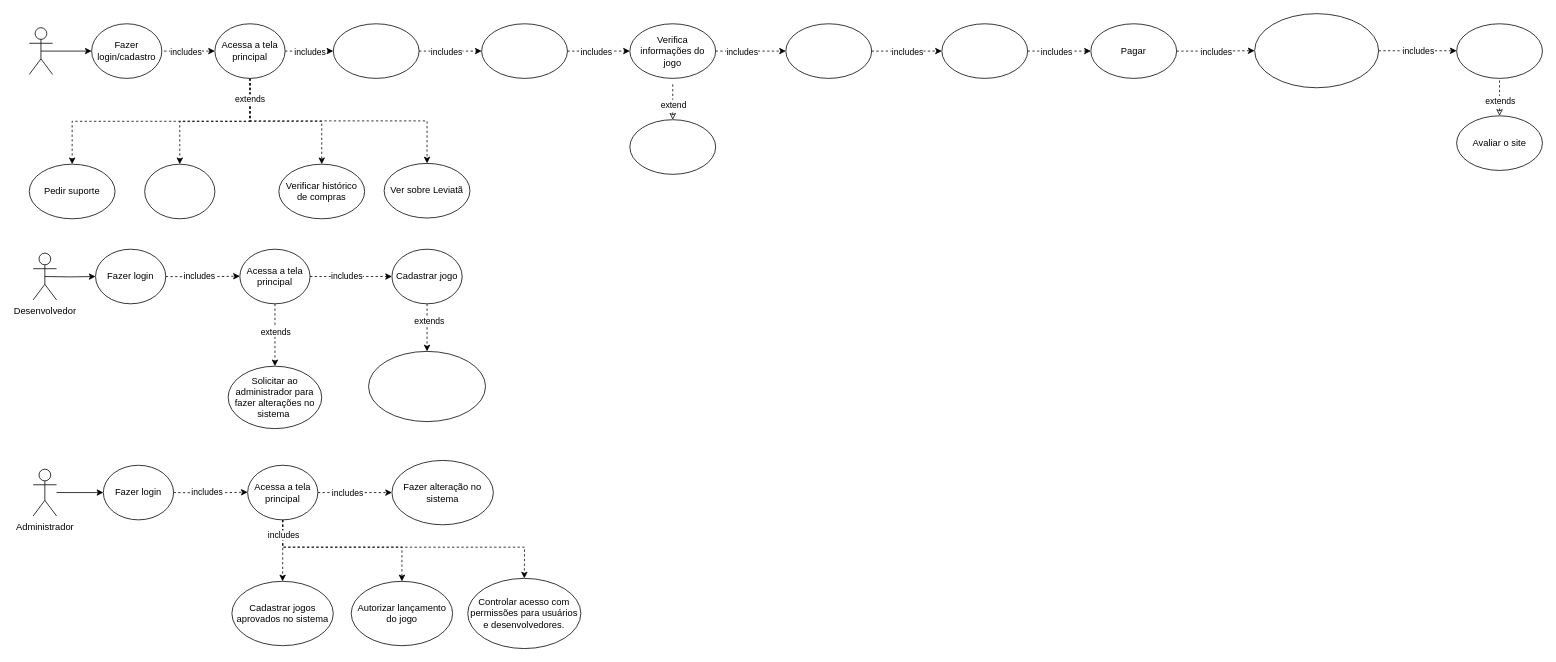
Some shapes in this 1556 by 662 pixel diagram are drawn without their labels. The centre of each missing label's shape, as x and y in pixels:
"Adicionar ao carrinho" goes at (828,50).
"Cliente" goes at (40,50).
"Disponibilizar arquivo de instalação do jogo" goes at (1316,50).
"Entrar para equipe de jogos" goes at (179,191).
"Escolher método de pagamento" goes at (984,50).
"Finalizar operação" goes at (1499,50).
"Seleciona um jogo" goes at (524,50).
"Solicitar ao administrador para autorizar o lançamento do jogo" goes at (427,386).
"Verificar avaliações" goes at (672,146).
"Visualiza jogos disponíveis para compra" goes at (376,50).
